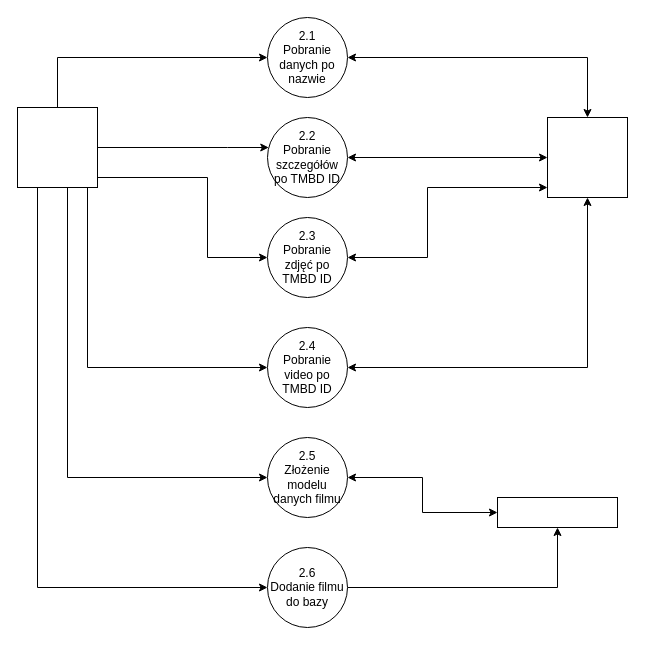
The diagram is 645 pixels wide and 645 high, and some of its shapes have lost their labels. Each missing label, with the centre of its shape:
"film" belongs at point 557,512.
"Klient" belongs at point 57,147.
"TMBD" belongs at point 587,157.
